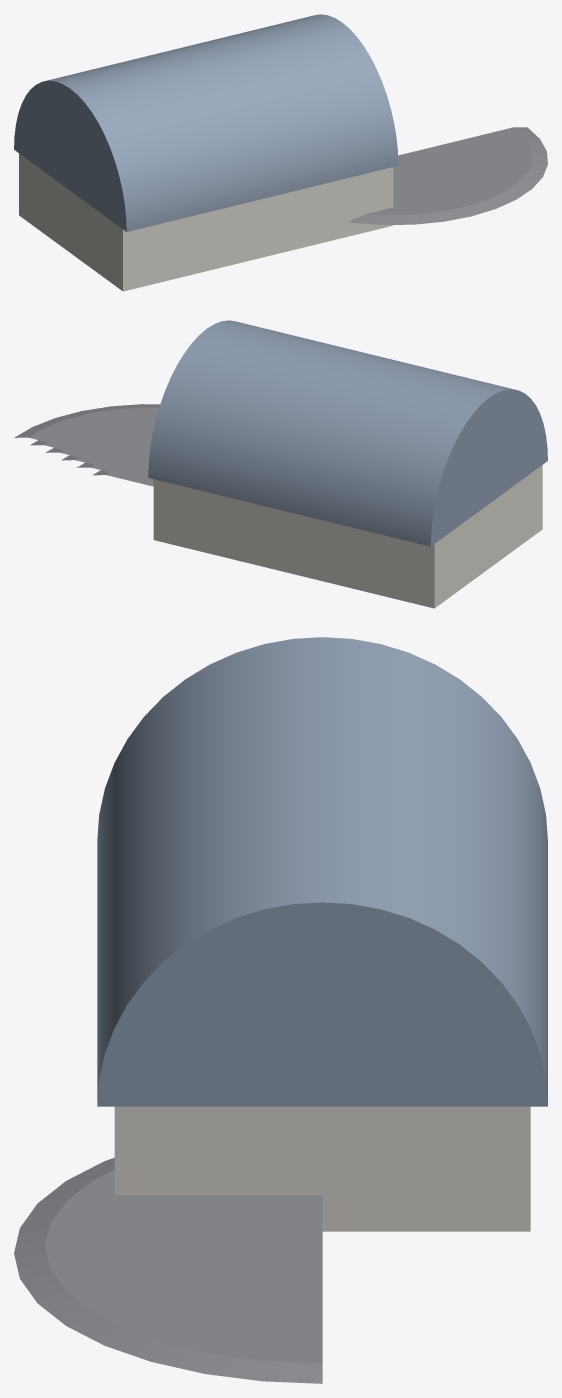
File: sac-complex.glb
3 renders of one model, top to bottom at view 1: azimuth 30°, elevation 25°; view 2: azimuth 150°, elevation 25°; view 3: azimuth 270°, elevation 25°, orthographic. The views are drawn at different scales.
Parts seen in each view (by area): view 1: Student_Activity_Centre_SAC; view 2: Student_Activity_Centre_SAC; view 3: Student_Activity_Centre_SAC.
Boxes of the visible parts, x1,y1,x2,y2 form: Student_Activity_Centre_SAC: (14, 14, 547, 291); Student_Activity_Centre_SAC: (14, 320, 547, 608); Student_Activity_Centre_SAC: (14, 637, 547, 1383).
Size of the model in its own units: 60.9 by 21.37 by 30.8.
